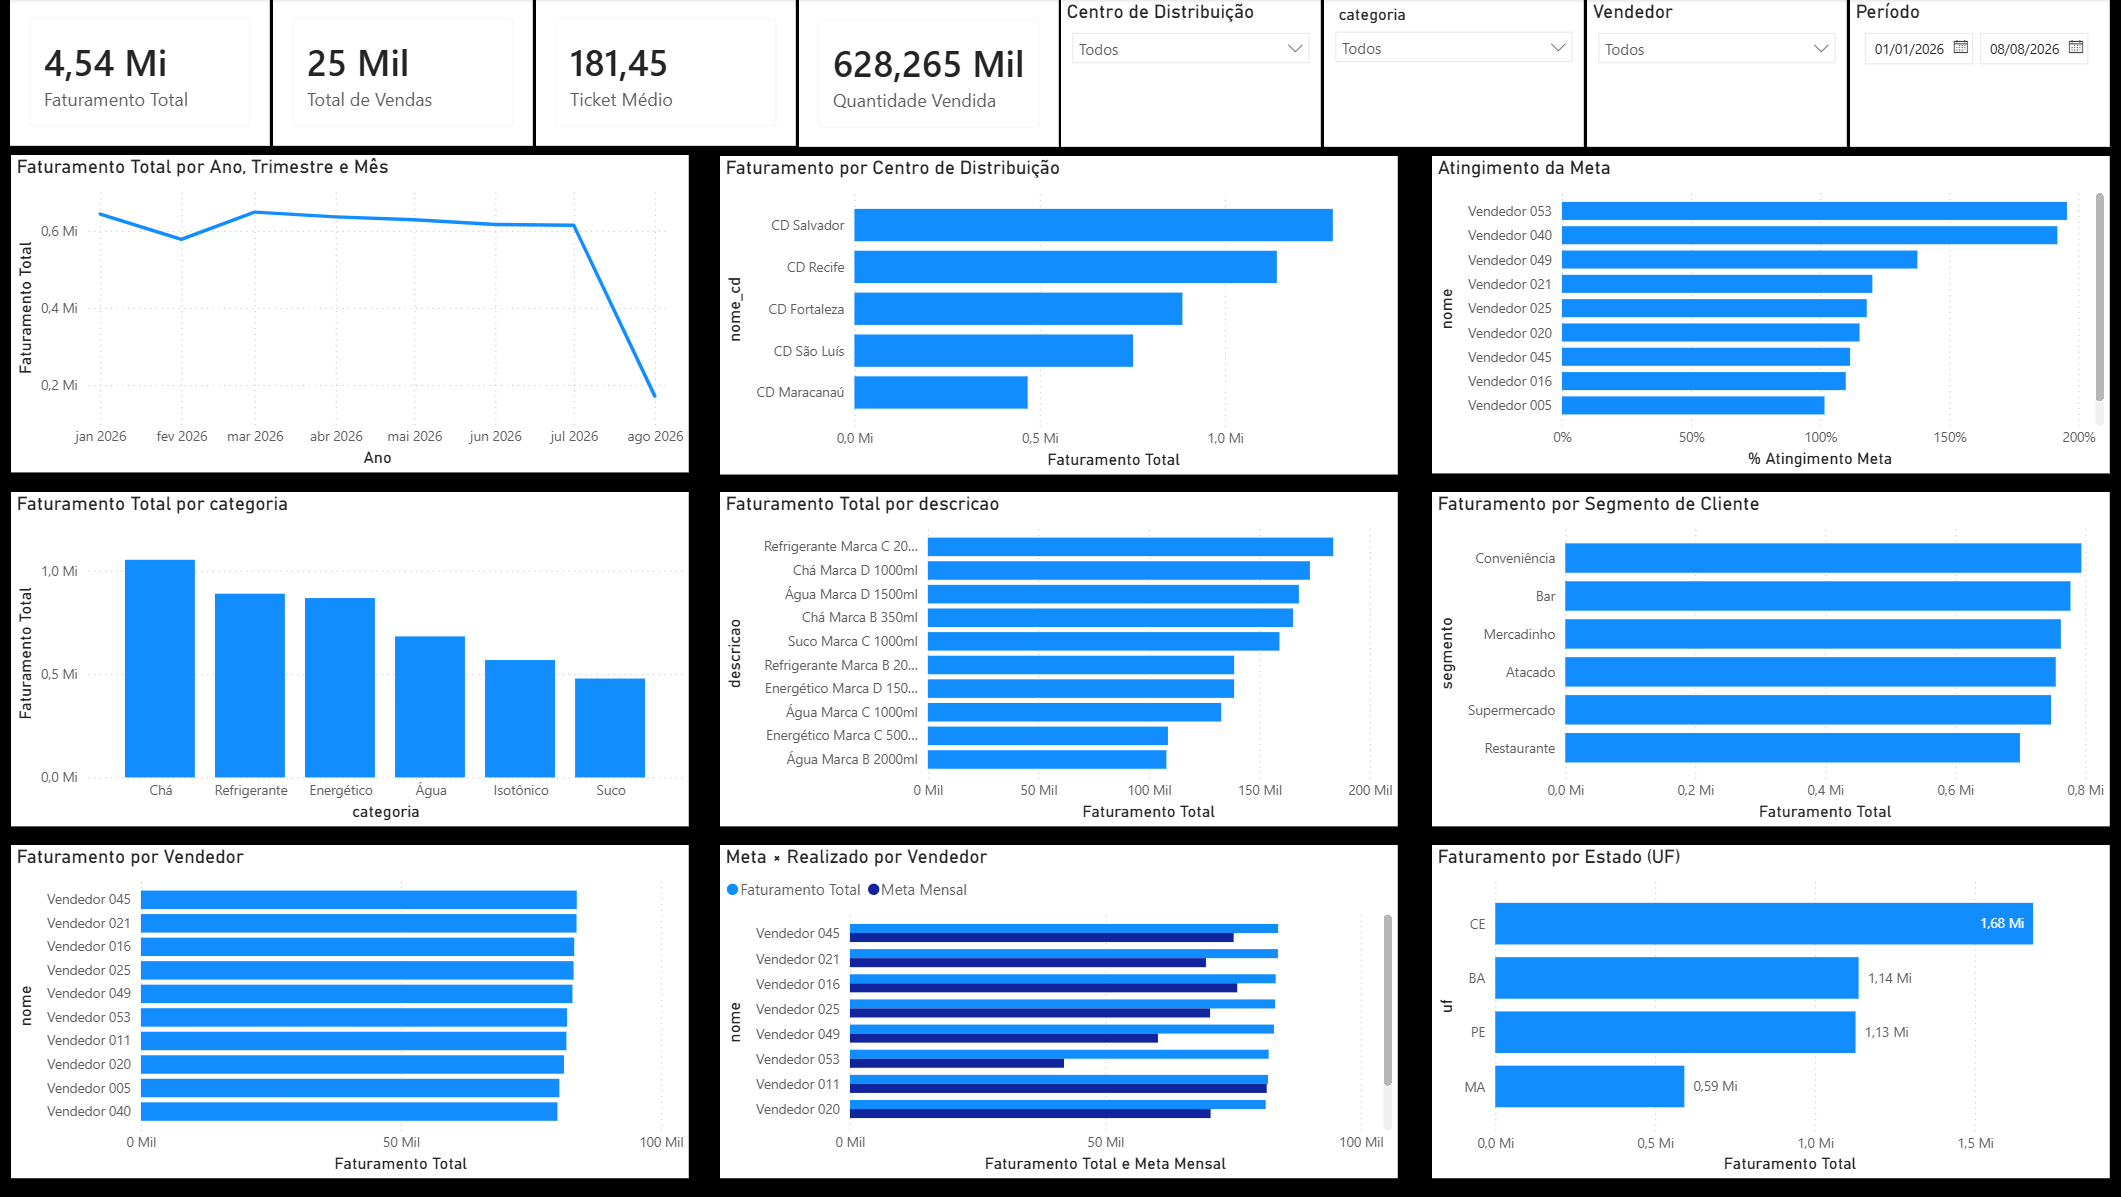

The page's visual inventory and layout, read from the dashboard file:
{"tool":"powerbi","page":{"name":"Página 1","canvas":[1920,1080],"ordinal":0},"visuals":[{"type":"cardVisual","fields":{"Data":["_Medidas.Faturamento Total"]},"box":[9.8,0,230,130],"z":0},{"type":"cardVisual","fields":{"Data":["_Medidas.Total de Vendas"]},"box":[242.5,0,230,130],"z":1000},{"type":"cardVisual","fields":{"Data":["_Medidas.Ticket Médio"]},"box":[475.2,0,230,130],"z":2000},{"type":"cardVisual","fields":{"Data":["_Medidas.Quantidade Vendida"]},"box":[707.9,0.9,230,130],"z":3000},{"type":"lineChart","fields":{"Category":["fct_vendas.data_venda.Variation.Hierarquia de datas.Ano","fct_vendas.data_venda.Variation.Hierarquia de datas.Trimestre","fct_vendas.data_venda.Variation.Hierarquia de datas.Mês","fct_vendas.data_venda.Variation.Hierarquia de datas.Dia"],"Y":["_Medidas.Faturamento Total"]},"box":[10.6,138.1,600,280.6],"z":4000},{"type":"clusteredBarChart","title":"Faturamento por Centro de Distribuição","fields":{"Y":["_Medidas.Faturamento Total"],"Category":["dim_centros_distribuicao.nome_cd"]},"box":[638.3,139,600.2,281.5],"z":5000},{"type":"clusteredColumnChart","fields":{"Category":["dim_produtos.categoria"],"Y":["_Medidas.Faturamento Total"]},"box":[10.6,436.4,600,295.7],"z":6000},{"type":"clusteredBarChart","fields":{"Category":["dim_produtos.descricao"],"Y":["_Medidas.Faturamento Total"]},"box":[638.3,436.4,600.2,295.7],"z":7000},{"type":"barChart","title":"Faturamento por Vendedor","fields":{"Category":["dim_vendedores.nome"],"Y":["_Medidas.Faturamento Total"]},"box":[10.6,748.9,600.2,294.8],"z":8000},{"type":"clusteredBarChart","title":"Meta × Realizado por Vendedor","fields":{"Category":["dim_vendedores.nome"],"Y":["_Medidas.Faturamento Total","_Medidas.Meta Mensal"]},"box":[638.3,748.9,600.2,294.8],"z":9000},{"type":"barChart","title":"Atingimento da Meta","fields":{"Category":["dim_vendedores.nome"],"Y":["_Medidas.% Atingimento Meta"]},"box":[1268.6,139,600.2,280.6],"z":10000},{"type":"clusteredBarChart","title":"Faturamento por Segmento de Cliente","fields":{"Category":["dim_clientes.segmento"],"Y":["_Medidas.Faturamento Total"]},"box":[1268.6,436.4,600.2,295.7],"z":11000},{"type":"slicer","title":"Centro de Distribuição","fields":{"Values":["dim_centros_distribuicao.nome_cd"]},"box":[940.5,0.9,230,130],"z":12000},{"type":"slicer","fields":{"Values":["dim_produtos.categoria"]},"box":[1173.2,0.9,230,130],"z":13000},{"type":"slicer","title":"Vendedor","fields":{"Values":["dim_vendedores.nome"]},"box":[1405.9,0.9,230,130],"z":14000},{"type":"slicer","title":"Período","fields":{"Values":["fct_vendas.data_venda"]},"box":[1638.6,0.9,230,130],"z":15000},{"type":"clusteredBarChart","title":"Faturamento por Estado (UF)","fields":{"Category":["dim_clientes.uf"],"Y":["_Medidas.Faturamento Total"]},"box":[1269,749,600,295],"z":15001}]}

Visuals, with their boxes in screenshot pixels (x1, y1, x2, y2), scaled from the page's 1920x1080 canvas onto the 2121x1197 screenshot:
cardVisual - _Medidas.Faturamento Total: bbox(11, 0, 265, 144)
cardVisual - _Medidas.Total de Vendas: bbox(268, 0, 522, 144)
cardVisual - _Medidas.Ticket Médio: bbox(525, 0, 779, 144)
cardVisual - _Medidas.Quantidade Vendida: bbox(782, 1, 1036, 145)
lineChart - fct_vendas.data_venda.Variation.Hierarquia de datas.Ano x fct_vendas.data_venda.Variation.Hierarquia de datas.Trimestre: bbox(12, 153, 675, 464)
"Faturamento por Centro de Distribuição" clusteredBarChart: bbox(705, 154, 1368, 466)
clusteredColumnChart - dim_produtos.categoria x _Medidas.Faturamento Total: bbox(12, 484, 675, 811)
clusteredBarChart - dim_produtos.descricao x _Medidas.Faturamento Total: bbox(705, 484, 1368, 811)
"Faturamento por Vendedor" barChart: bbox(12, 830, 675, 1157)
"Meta × Realizado por Vendedor" clusteredBarChart: bbox(705, 830, 1368, 1157)
"Atingimento da Meta" barChart: bbox(1401, 154, 2064, 465)
"Faturamento por Segmento de Cliente" clusteredBarChart: bbox(1401, 484, 2064, 811)
"Centro de Distribuição" slicer: bbox(1039, 1, 1293, 145)
slicer - dim_produtos.categoria: bbox(1296, 1, 1550, 145)
"Vendedor" slicer: bbox(1553, 1, 1807, 145)
"Período" slicer: bbox(1810, 1, 2064, 145)
"Faturamento por Estado (UF)" clusteredBarChart: bbox(1402, 830, 2065, 1157)
